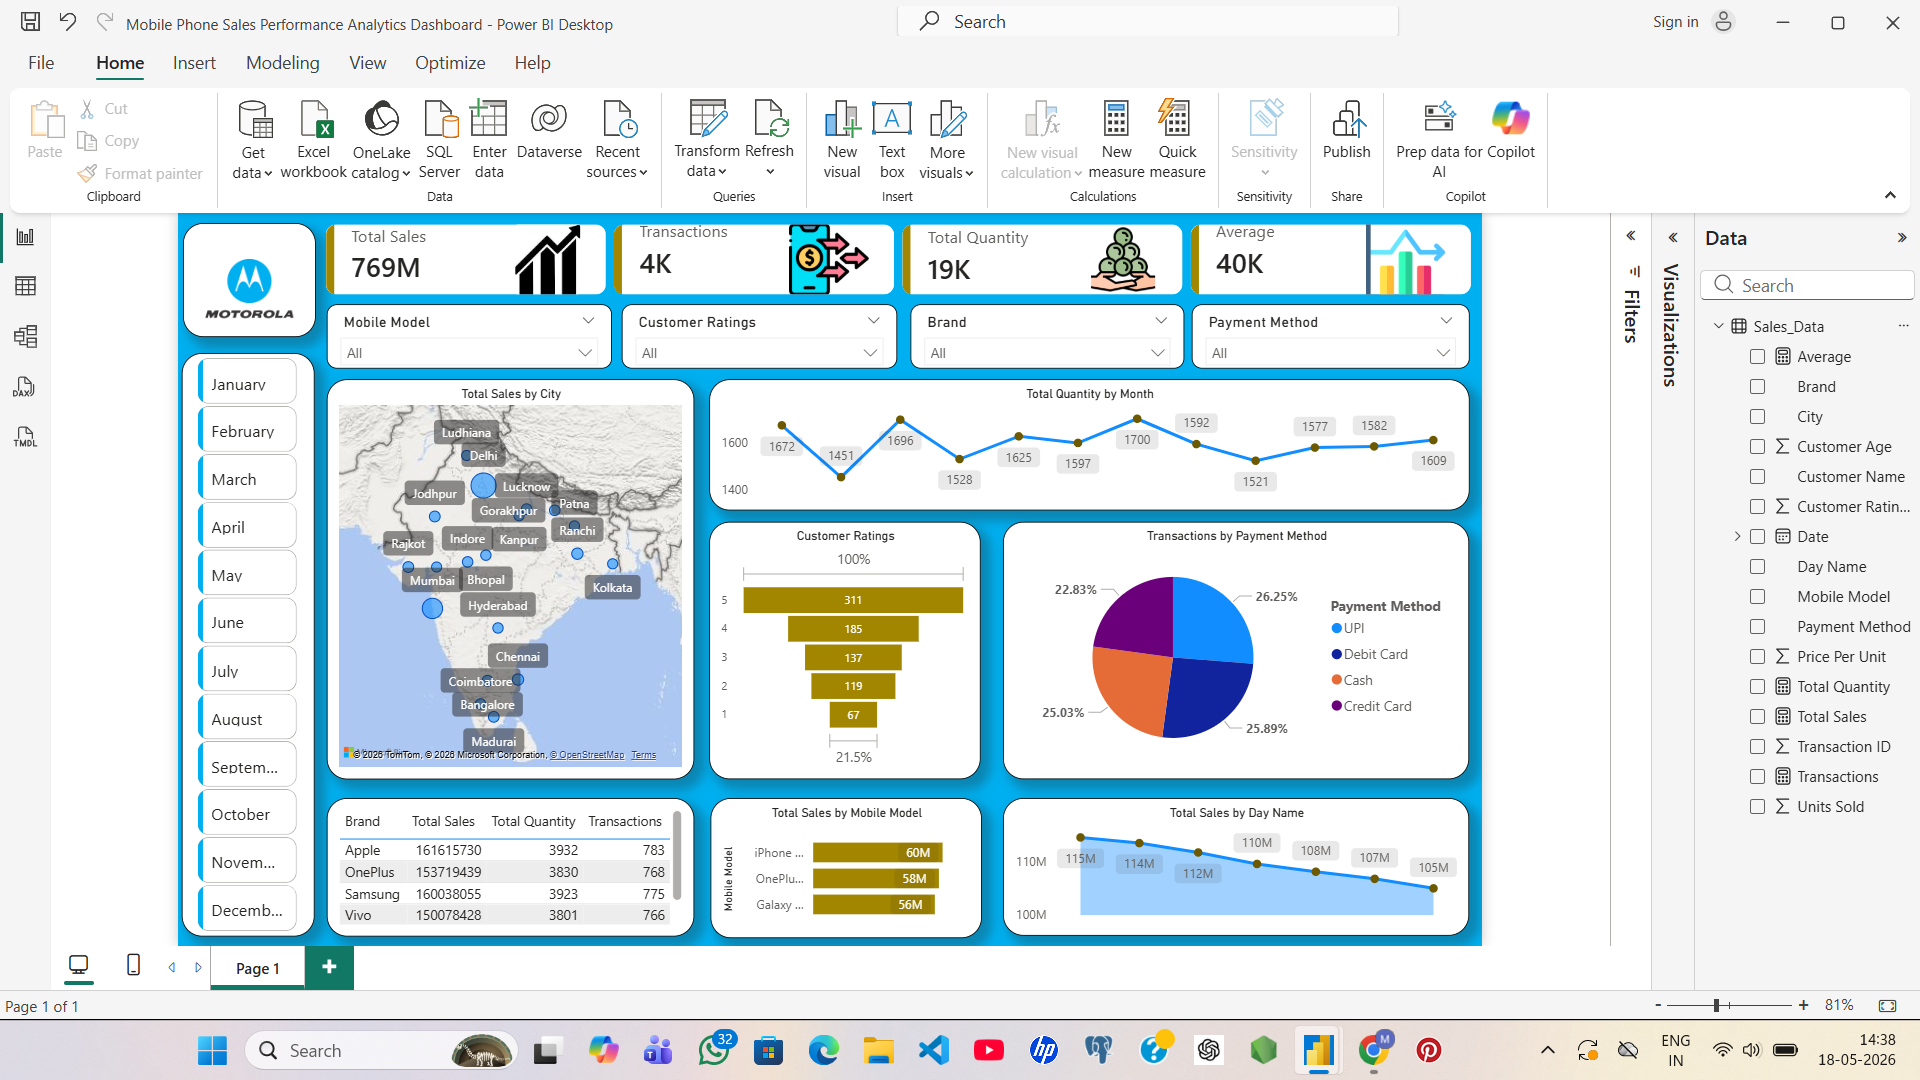

Layout of this report page (visuals, bound fields, positions):
{"tool":"powerbi","page":{"name":"Page 1","canvas":[1280,720],"ordinal":0},"visuals":[{"type":"shape","box":[4.9,9.8,130.1,111.7],"z":0},{"type":"image","box":[16,0,108,147.2],"z":1000},{"type":"shape","box":[3.7,137.4,130.1,573],"z":2000},{"type":"advancedSlicerVisual","fields":{"Values":["Sales_Data.Date.Variation.Date Hierarchy.Month"]},"box":[14.7,137.4,108,573],"z":3000},{"type":"cardVisual","fields":{"Data":["Sales_Data.Total Sales","Sales_Data.Transactions","Sales_Data.Total Quantity","Sales_Data.Average"]},"box":[134.5,0,1145.8,89.2],"z":4000},{"type":"map","fields":{"Category":["Sales_Data.City"],"Size":["Sales_Data.Total Sales"]},"box":[146,163.2,360.7,392.6],"z":5000},{"type":"lineChart","fields":{"Y":["Sales_Data.Total Quantity"],"Category":["Sales_Data.Date.Variation.Date Hierarchy.Month","Sales_Data.Date.Variation.Date Hierarchy.Day"]},"box":[521.5,163.2,746,128.8],"z":6000},{"type":"funnel","title":"Customer Ratings ","fields":{"Category":["Sales_Data.Customer Ratings"],"Y":["CountNonNull(Sales_Data.Customer Ratings)"]},"box":[521.5,303.1,266.3,252.8],"z":7000},{"type":"pieChart","fields":{"Y":["Sales_Data.Transactions"],"Category":["Sales_Data.Payment Method"]},"box":[809.8,303.1,457.7,252.8],"z":8000},{"type":"clusteredBarChart","fields":{"Category":["Sales_Data.Mobile Model"],"Y":["Sales_Data.Total Sales"]},"box":[522.7,574.2,266.3,137.4],"z":9000},{"type":"areaChart","fields":{"Category":["Sales_Data.Day Name"],"Y":["Sales_Data.Total Sales"]},"box":[809.8,574.2,457.7,135],"z":10000},{"type":"tableEx","fields":{"Values":["Sales_Data.Brand","Sales_Data.Total Sales","Sales_Data.Total Quantity","Sales_Data.Transactions"]},"box":[146,574.2,360.7,136.2],"z":11000},{"type":"slicer","fields":{"Values":["Sales_Data.Mobile Model"]},"box":[145.5,89.2,279.9,63.1],"z":12000},{"type":"slicer","fields":{"Values":["Sales_Data.Customer Ratings"]},"box":[435,89.2,270.3,63.1],"z":13000},{"type":"slicer","fields":{"Values":["Sales_Data.Brand"]},"box":[719,89.2,269,63.1],"z":14000},{"type":"slicer","fields":{"Values":["Sales_Data.Payment Method"]},"box":[994.9,89.2,273.1,63.1],"z":15000}]}

Visuals, with their boxes on the page's 1280x720 design canvas (x1, y1, x2, y2). These are canvas units, not pixel positions in the 1920x1080 screenshot, which may show the page scaled, cropped or inside an application window:
shape: 5:10:135:122
image: 16:0:124:147
shape: 4:137:134:710
advancedSlicerVisual - Sales_Data.Date.Variation.Date Hierarchy.Month: 15:137:123:710
cardVisual - Sales_Data.Total Sales x Sales_Data.Transactions: 134:0:1280:89
map - Sales_Data.City x Sales_Data.Total Sales: 146:163:507:556
lineChart - Sales_Data.Total Quantity x Sales_Data.Date.Variation.Date Hierarchy.Month: 522:163:1268:292
"Customer Ratings " funnel: 522:303:788:556
pieChart - Sales_Data.Transactions x Sales_Data.Payment Method: 810:303:1268:556
clusteredBarChart - Sales_Data.Mobile Model x Sales_Data.Total Sales: 523:574:789:712
areaChart - Sales_Data.Day Name x Sales_Data.Total Sales: 810:574:1268:709
tableEx - Sales_Data.Brand x Sales_Data.Total Sales: 146:574:507:710
slicer - Sales_Data.Mobile Model: 146:89:425:152
slicer - Sales_Data.Customer Ratings: 435:89:705:152
slicer - Sales_Data.Brand: 719:89:988:152
slicer - Sales_Data.Payment Method: 995:89:1268:152
